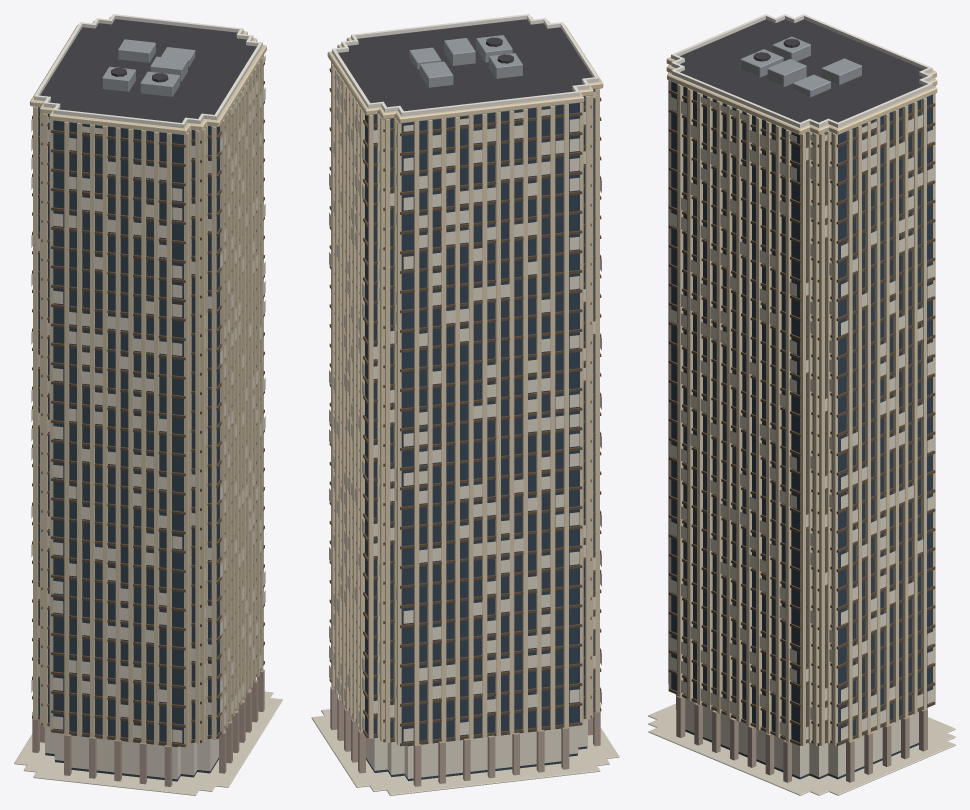
Rendered from 333-market.glb.
3 views of the same model, side by side, from view 1: azimuth 30°, elevation 25°; view 2: azimuth 150°, elevation 25°; view 3: azimuth 270°, elevation 25° (orthographic).
Visible parts, largest first — view 1: 333-market_body, 333-market_night_glow; view 2: 333-market_body, 333-market_night_glow; view 3: 333-market_body, 333-market_night_glow.
Part boxes in pixels (<box>): 333-market_body: <box>14,14,282,795</box>; 333-market_night_glow: <box>31,55,265,779</box>; 333-market_body: <box>311,14,619,795</box>; 333-market_night_glow: <box>329,73,601,778</box>; 333-market_body: <box>648,14,955,795</box>; 333-market_night_glow: <box>669,96,934,777</box>.
Bounding box in the file's own units: 59.68 × 144 × 59.75.
